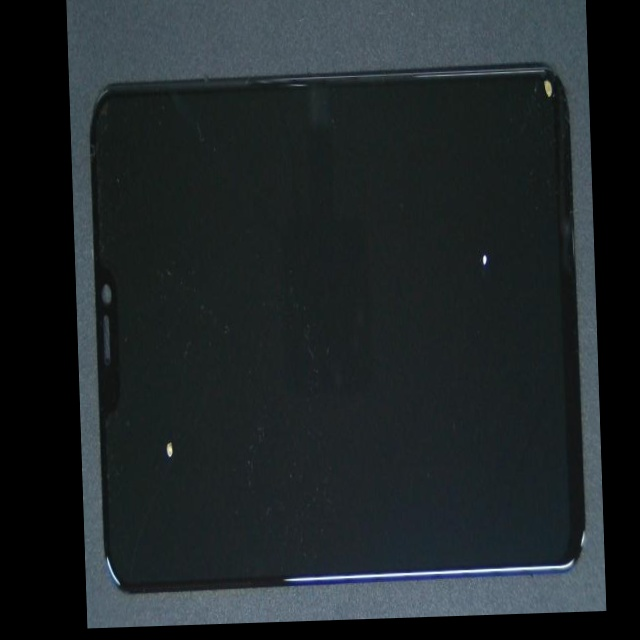stain: (266, 63, 599, 416)
